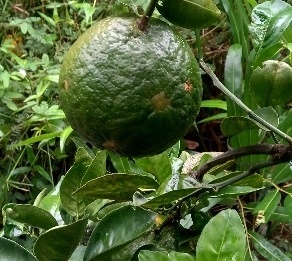Cam: (57, 17, 204, 156)
